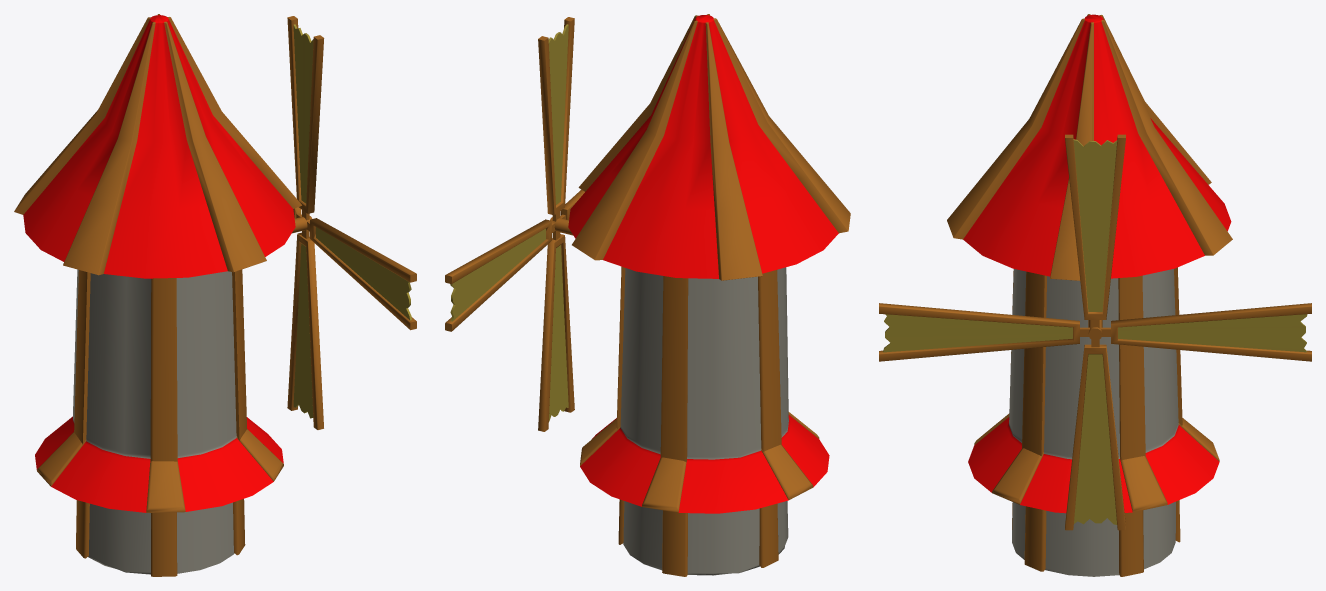
The model's file is Wildmill_RedTeam.fbx.
3 renders of one model, left to right at view 1: azimuth 30°, elevation 25°; view 2: azimuth 150°, elevation 25°; view 3: azimuth 270°, elevation 25°, orthographic.
Visible parts, largest first — view 1: Wildmill_RedTeam, WingsWildmill_RedTeam; view 2: Wildmill_RedTeam, WingsWildmill_RedTeam; view 3: Wildmill_RedTeam, WingsWildmill_RedTeam.
Boxes of the visible parts, left/top/right/bottom form: Wildmill_RedTeam: left=14, top=14, right=312, bottom=576; WingsWildmill_RedTeam: left=287, top=16, right=416, bottom=429; Wildmill_RedTeam: left=550, top=14, right=850, bottom=576; WingsWildmill_RedTeam: left=445, top=17, right=584, bottom=431; Wildmill_RedTeam: left=947, top=14, right=1232, bottom=576; WingsWildmill_RedTeam: left=879, top=134, right=1311, bottom=530.
Size of the model in its own units: 2098 by 3850 by 2882.
